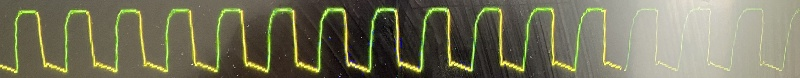normal_pressure: (0, 0, 786, 77)
